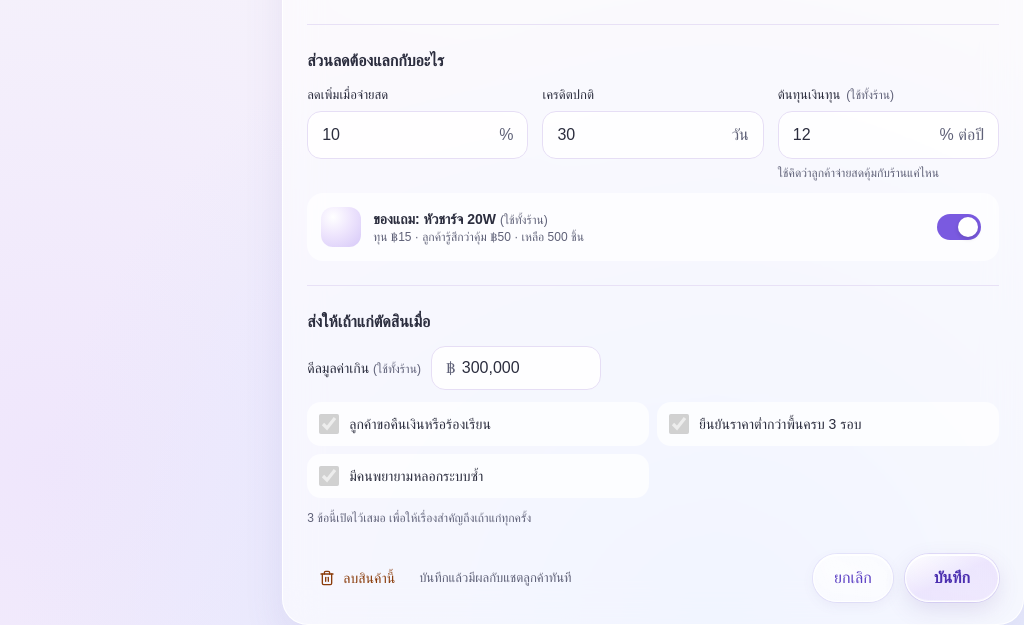
Test case: ProductSettings (Owner-Settings) › server ปฏิเสธ → แสดงข้อผิดจาก server
The image size is (1024, 625).
(page scrolled)
Click the button "บันทึก": (952, 578) [905,554,999,602]
(page scrolled)
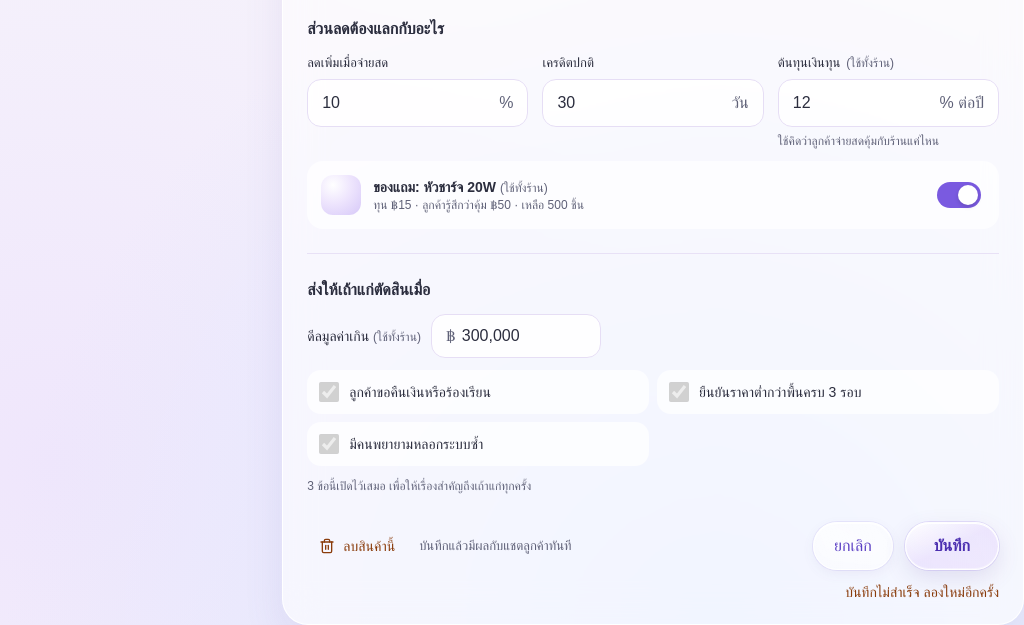
Check: the message reads "บันทึกไม่สำเร็จ ลองใหม่อีกครั้ง", box [845,584,999,600]
